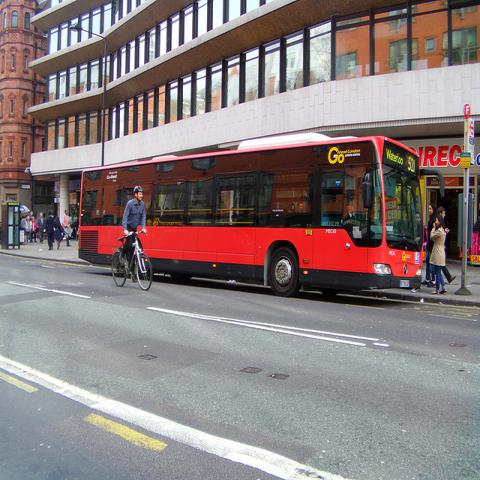bus: (80, 132, 444, 300)
